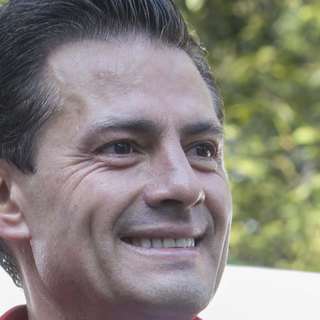eye: (90, 134, 147, 164), (182, 138, 224, 165)
